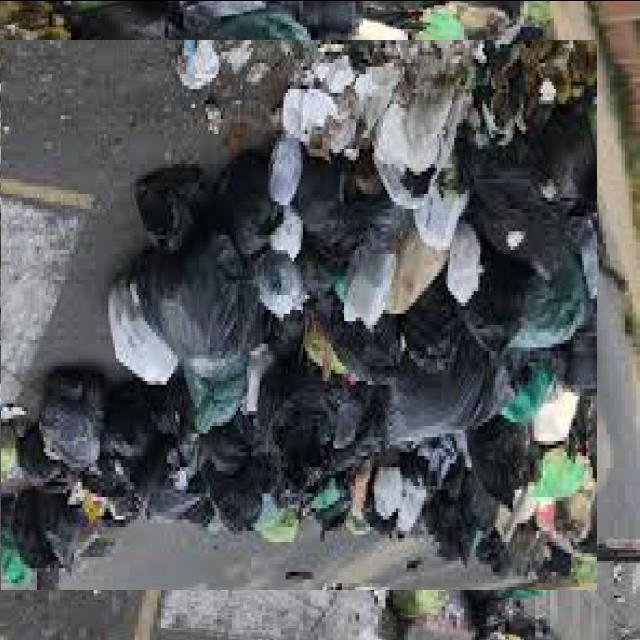Trashbag: (471, 133, 594, 271), (404, 305, 507, 453), (188, 424, 307, 535), (253, 374, 350, 507), (135, 238, 254, 344), (462, 254, 578, 342), (225, 153, 315, 260), (309, 179, 423, 261), (16, 372, 98, 462), (322, 293, 406, 372), (88, 414, 168, 494), (21, 480, 85, 578), (472, 432, 536, 518), (138, 170, 212, 232), (564, 345, 601, 407)
